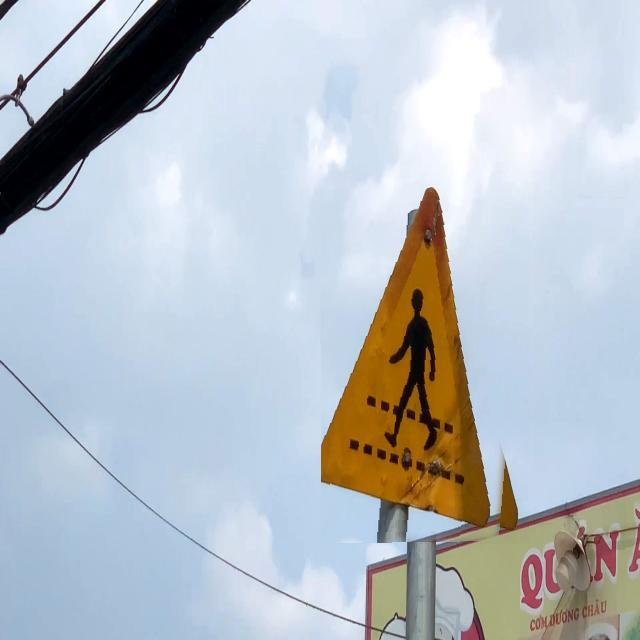W-224: (321, 171, 529, 544)
